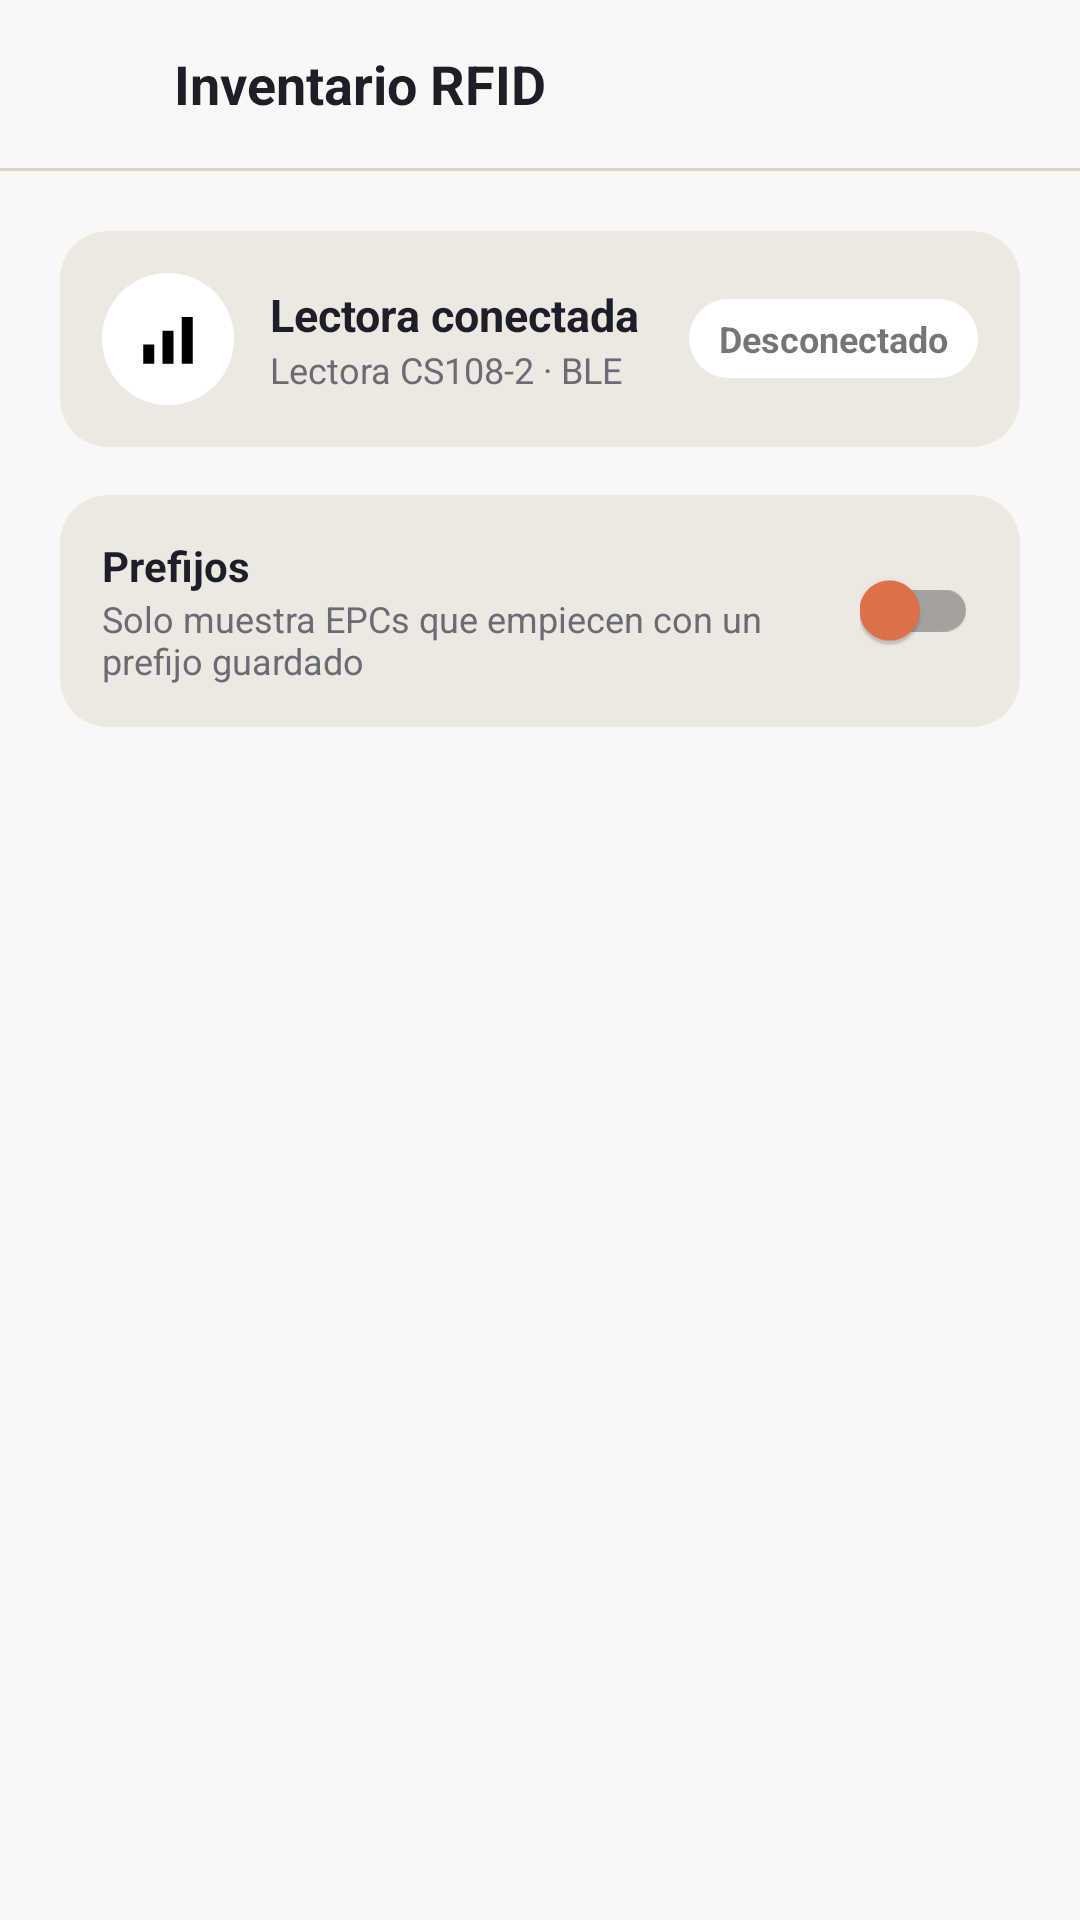

Icons on this 1080x1920 Android screen, each with its box as bbox(x1, y1, x2, y2):
signal: bbox(102, 273, 234, 405)
